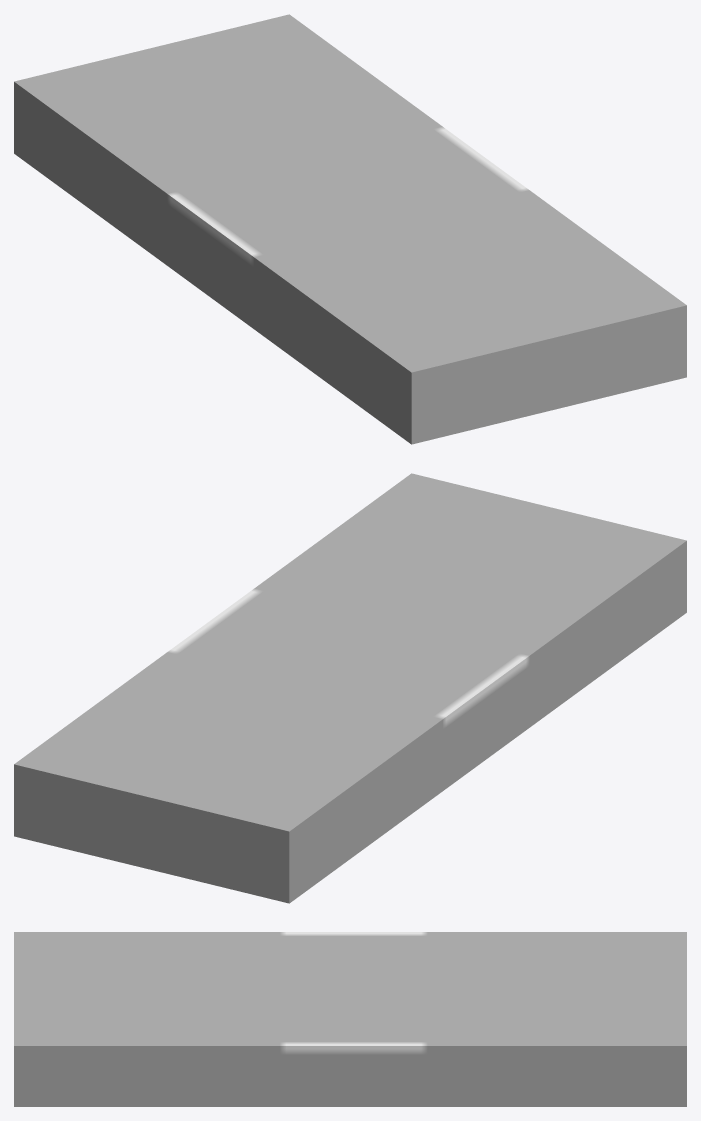
The model's file is Mid.fbx.
3 renders of one model, top to bottom at view 1: azimuth 30°, elevation 25°; view 2: azimuth 150°, elevation 25°; view 3: azimuth 270°, elevation 25°, orthographic. The views are drawn at different scales.
Visible parts, largest first — view 1: Mid; view 2: Mid; view 3: Mid.
Boxes of the visible parts, box(x1,y1,x2,y2) form: Mid: box(14, 14, 686, 444); Mid: box(14, 473, 686, 903); Mid: box(14, 932, 686, 1106).
Size of the model in its own units: 40 by 10 by 100.
